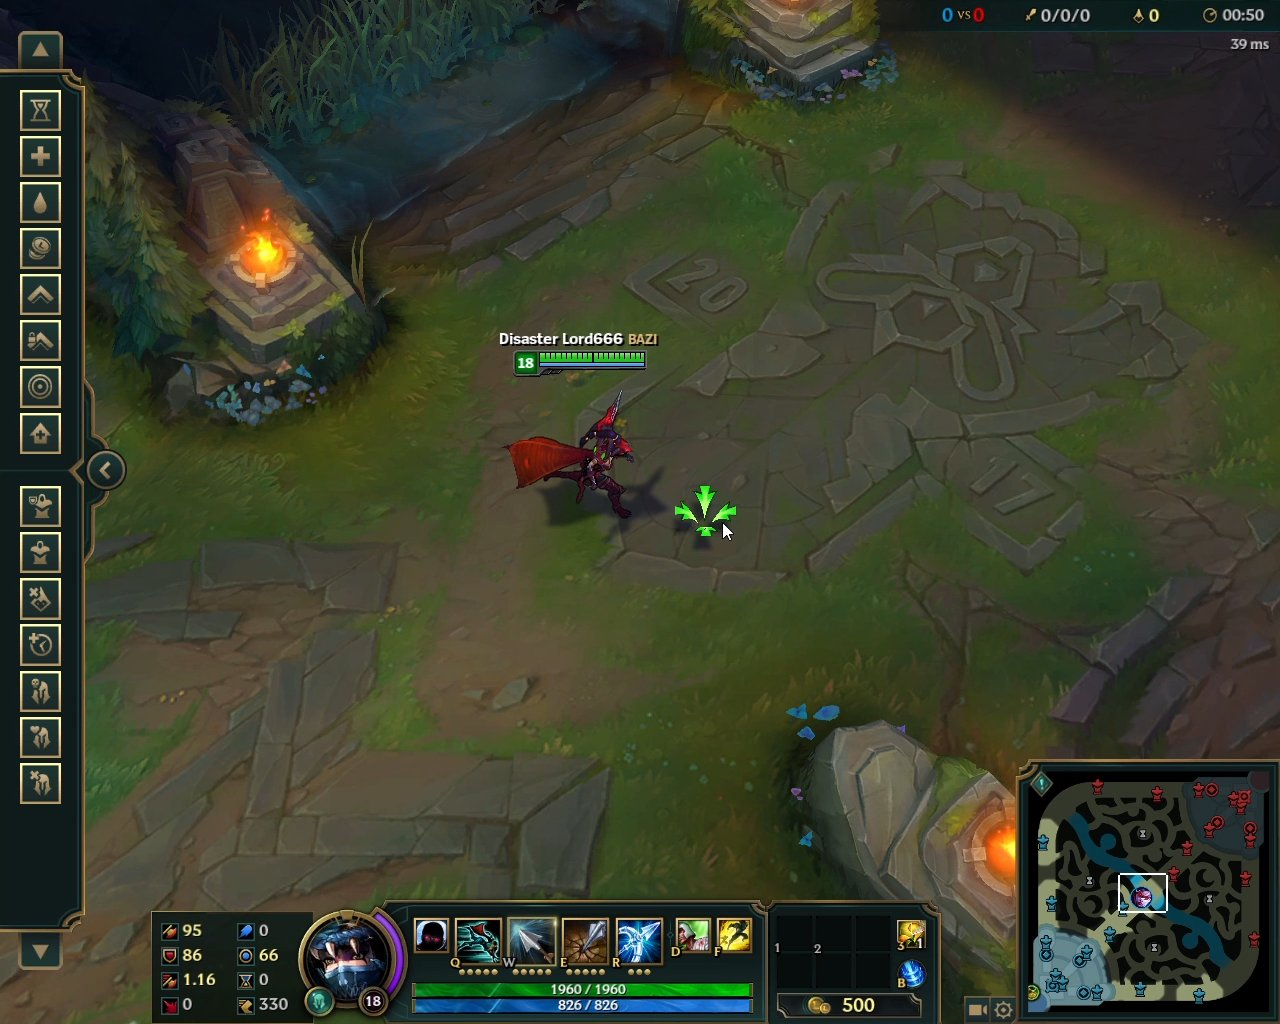Vayne: (495, 385, 651, 532)
